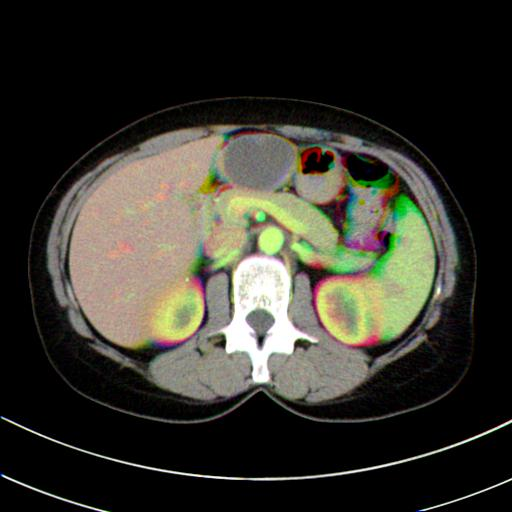Cyst: (218, 131, 296, 190)
